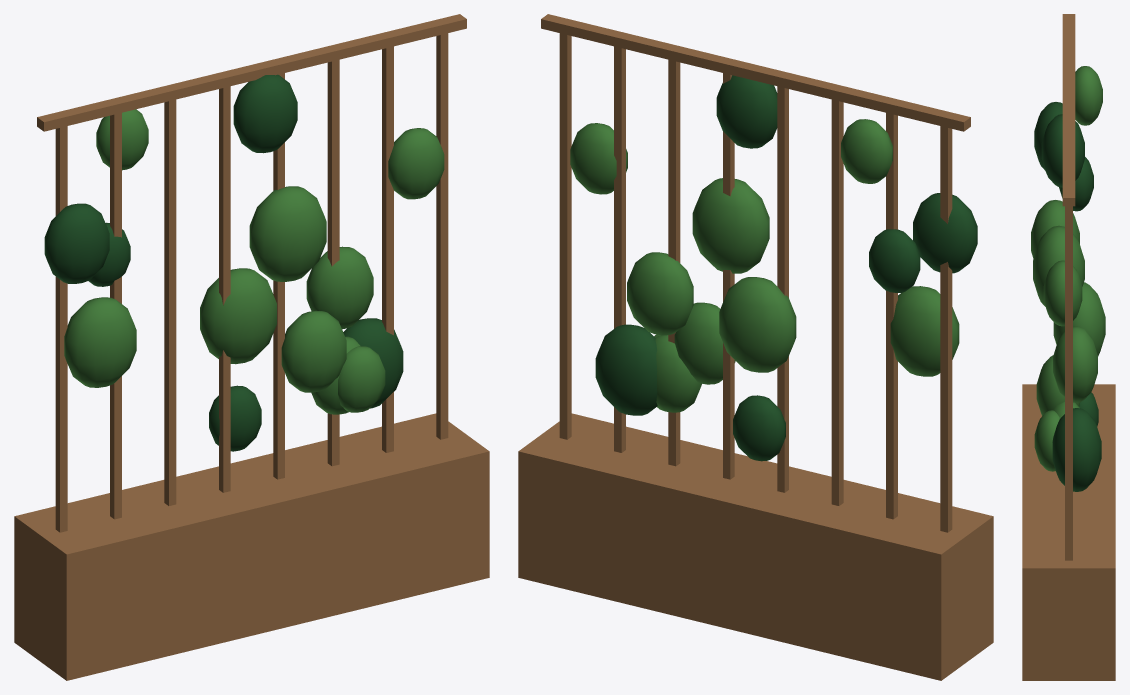
The model's file is planter_divider.glb.
The picture shows the model from 3 angles, left to right: view 1: azimuth 30°, elevation 25°; view 2: azimuth 150°, elevation 25°; view 3: azimuth 270°, elevation 25°; orthographic projection. The views are drawn at different scales.
Parts seen in each view (by area): view 1: Part0, Part10, Part19, Part18, Part21, Part4, Part9, Part15, Part2, Part14, Part5, Part17 (+12 smaller); view 2: Part0, Part10, Part18, Part19, Part9, Part4, Part20, Part2, Part24, Part21, Part8, Part14 (+11 smaller); view 3: Part0, Part9, Part10, Part20, Part24, Part19, Part17, Part16, Part18, Part13, Part21, Part12 (+4 smaller).
Part boxes in pixels (left/top/right/bottom): Part0: left=14, top=413, right=489, bottom=680; Part10: left=37, top=14, right=466, bottom=131; Part19: left=249, top=186, right=326, bottom=281; Part18: left=200, top=268, right=276, bottom=364; Part21: left=64, top=297, right=136, bottom=387; Part4: left=164, top=99, right=176, bottom=505; Part9: left=436, top=33, right=448, bottom=439; Part15: left=281, top=310, right=346, bottom=392; Part2: left=55, top=126, right=67, bottom=532; Part14: left=44, top=203, right=109, bottom=283; Part5: left=219, top=86, right=230, bottom=492; Part17: left=233, top=74, right=297, bottom=153; Part0: left=518, top=413, right=993, bottom=680; Part10: left=541, top=14, right=970, bottom=131; Part18: left=719, top=277, right=796, bottom=372; Part19: left=692, top=178, right=769, bottom=273; Part9: left=559, top=33, right=571, bottom=439; Part4: left=831, top=99, right=843, bottom=505; Part20: left=595, top=324, right=657, bottom=415; Part2: left=940, top=126, right=952, bottom=532; Part24: left=627, top=252, right=693, bottom=335; Part21: left=890, top=286, right=959, bottom=376; Part8: left=614, top=46, right=625, bottom=452; Part14: left=913, top=193, right=977, bottom=273; Part0: left=1022, top=384, right=1115, bottom=680; Part9: left=1065, top=206, right=1072, bottom=560; Part10: left=1062, top=14, right=1075, bottom=206; Part20: left=1052, top=408, right=1101, bottom=491; Part24: left=1053, top=326, right=1097, bottom=402; Part19: left=1033, top=225, right=1084, bottom=306; Part17: left=1041, top=114, right=1084, bottom=187; Part16: left=1043, top=260, right=1082, bottom=326; Part18: left=1053, top=282, right=1105, bottom=356; Part13: left=1075, top=66, right=1102, bottom=125; Part21: left=1031, top=200, right=1079, bottom=258; Part12: left=1034, top=410, right=1059, bottom=471.
Bounding box in the file's own units: 1.4 × 1.72 × 0.3.
